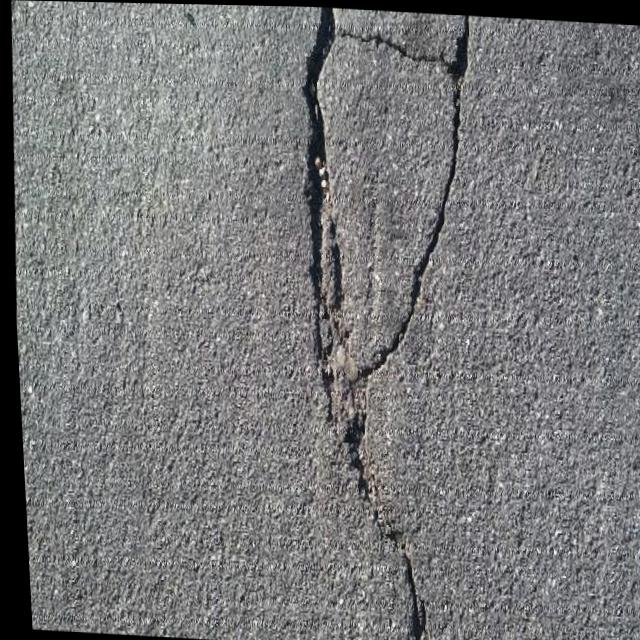Crack: (271, 5, 500, 640)
